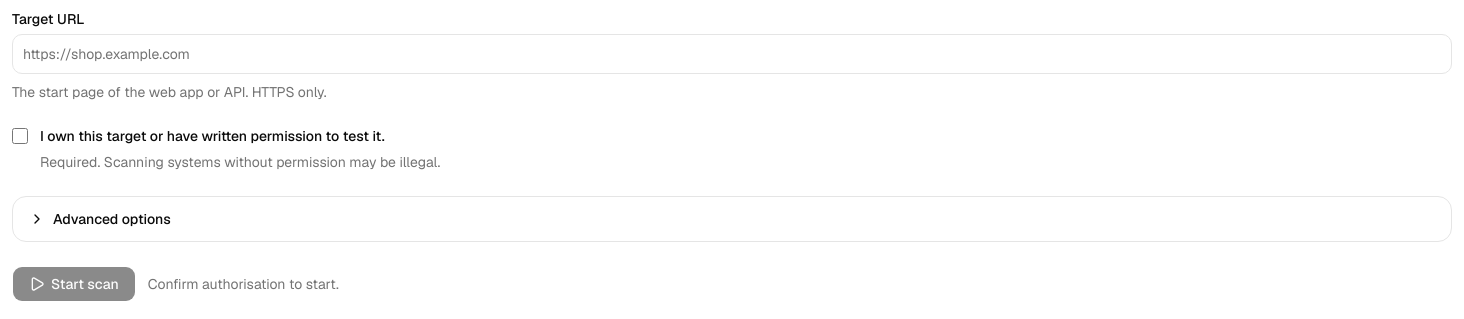
NewScanForm: submit › shows a target the API rejects on the URL field
The image size is (1464, 319).
Step 1. Type "https://intranet.example.com" into the field labelled "Target URL" → coordinates (732, 54), box x1=12 y1=34 x2=1452 y2=74
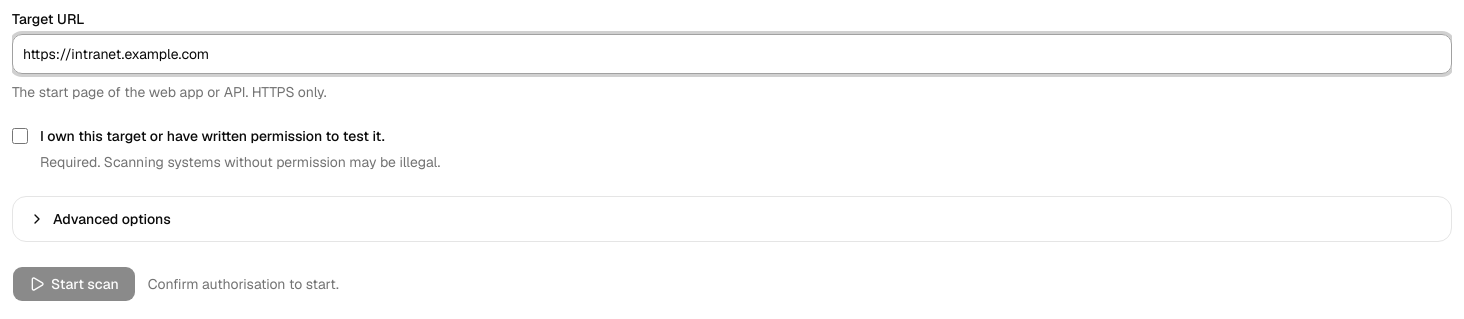
Step 2. Click the checkbox labelled "I own this target or have written permission to test it." → coordinates (20, 136), box x1=12 y1=128 x2=28 y2=144
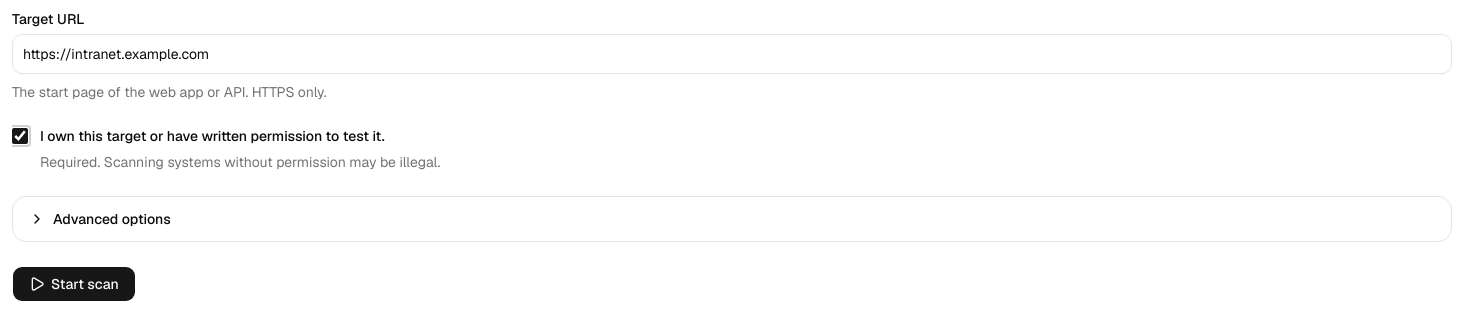
Step 3. Click the button "Start scan" → coordinates (74, 284), box x1=12 y1=266 x2=136 y2=302
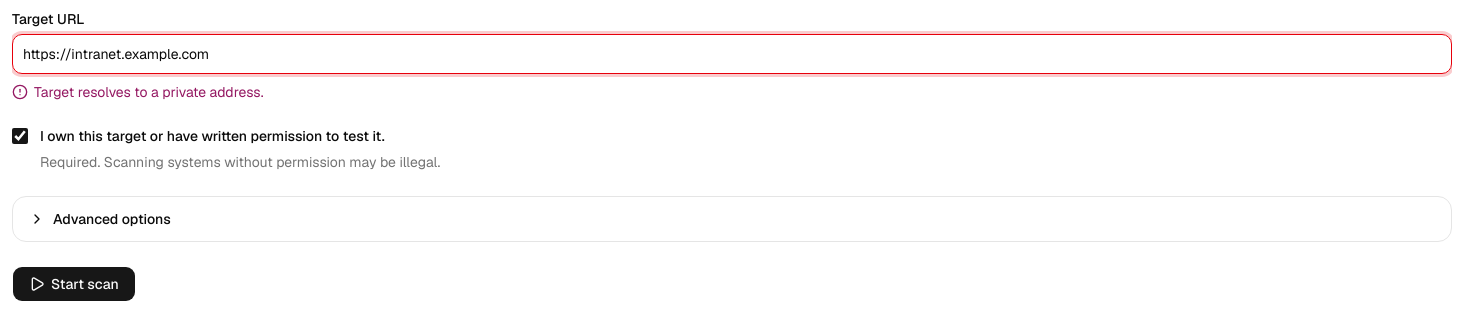
expect the text "Target resolves to a private address." is shown: met, box x1=12 y1=83 x2=264 y2=101
